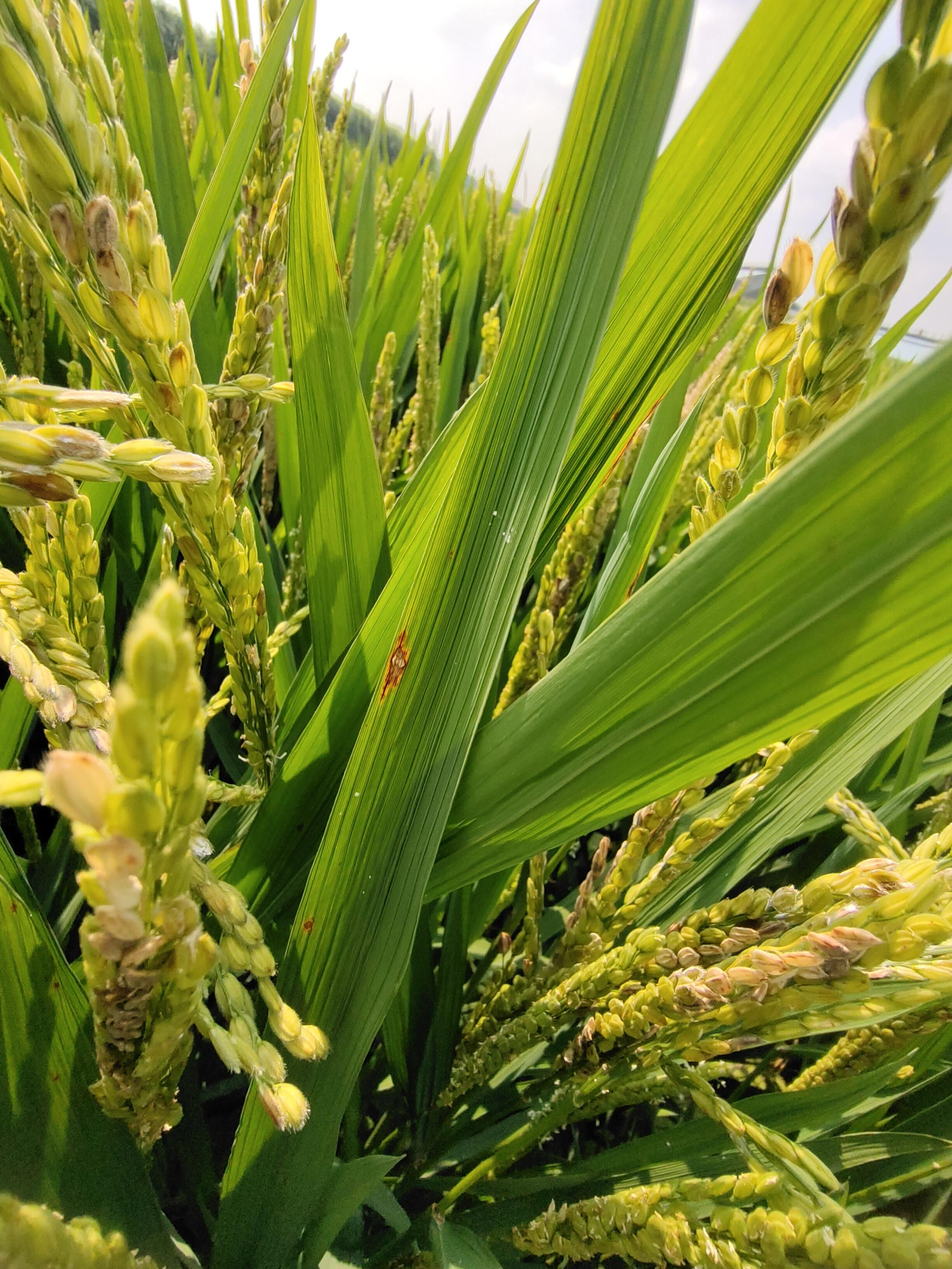LEAF: (212, 0, 696, 1268)
LEAF BLAST: (379, 630, 412, 706)
